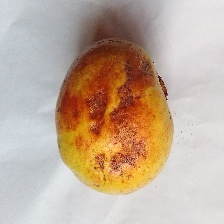guava: (25, 36, 224, 212)
